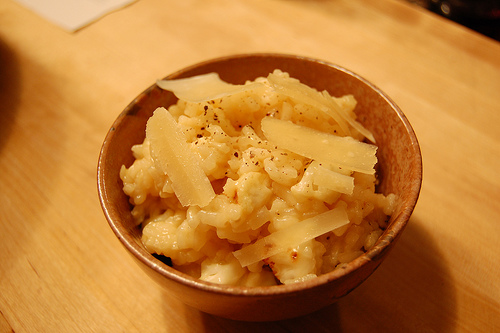cauliflower: (119, 69, 397, 285)
